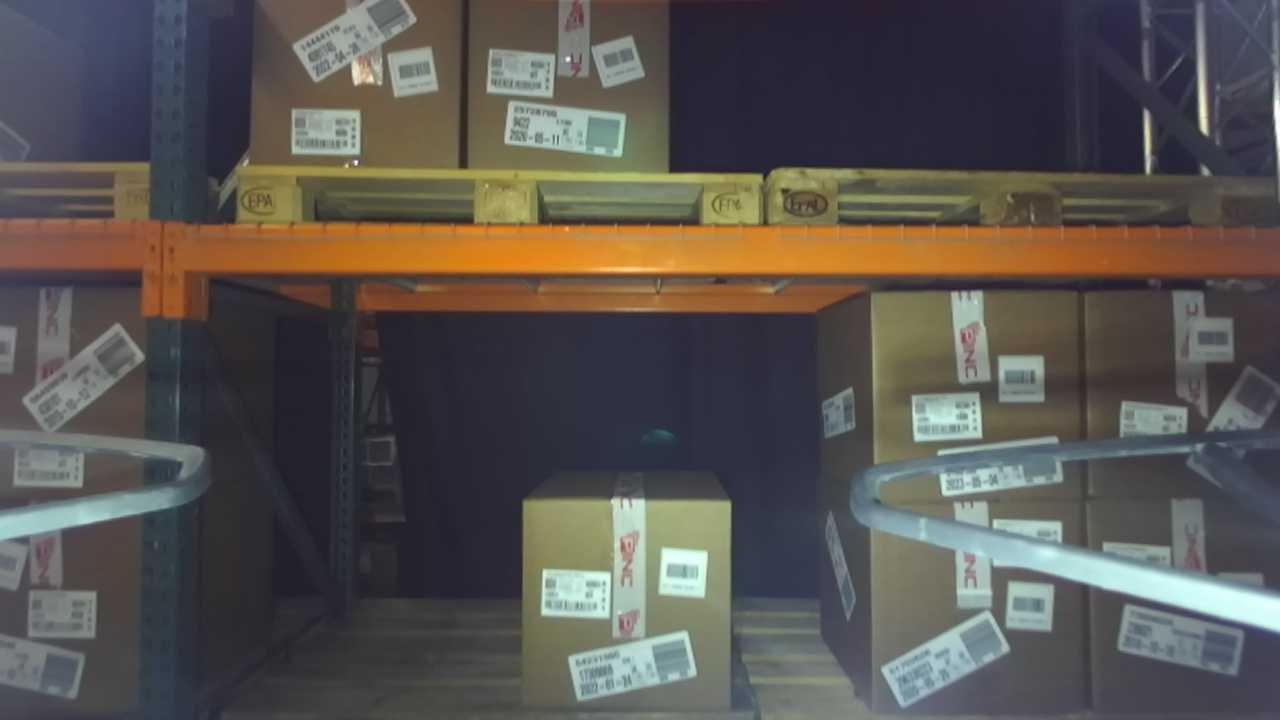box: (832, 264, 1102, 516), (510, 475, 752, 720), (843, 500, 1111, 720), (1067, 268, 1280, 516), (1061, 486, 1280, 718), (227, 1, 485, 193), (444, 1, 690, 198)
